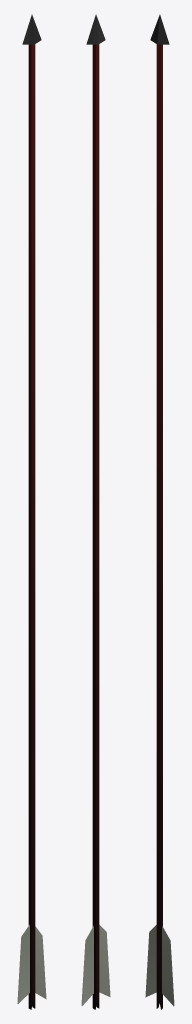
The model's file is Arrow_Demon.fbx.
3 renders of one model, left to right at view 1: azimuth 30°, elevation 25°; view 2: azimuth 210°, elevation 25°; view 3: azimuth 330°, elevation 25°, orthographic.
Visible parts, largest first — view 1: Arrow_Demon; view 2: Arrow_Demon; view 3: Arrow_Demon.
Boxes of the visible parts, x1=… form: Arrow_Demon: x1=17, y1=14, x2=46, y2=1009; Arrow_Demon: x1=81, y1=14, x2=110, y2=1009; Arrow_Demon: x1=145, y1=14, x2=174, y2=1009.
Bounding box in the file's own units: 10.5 × 350 × 3.54.
